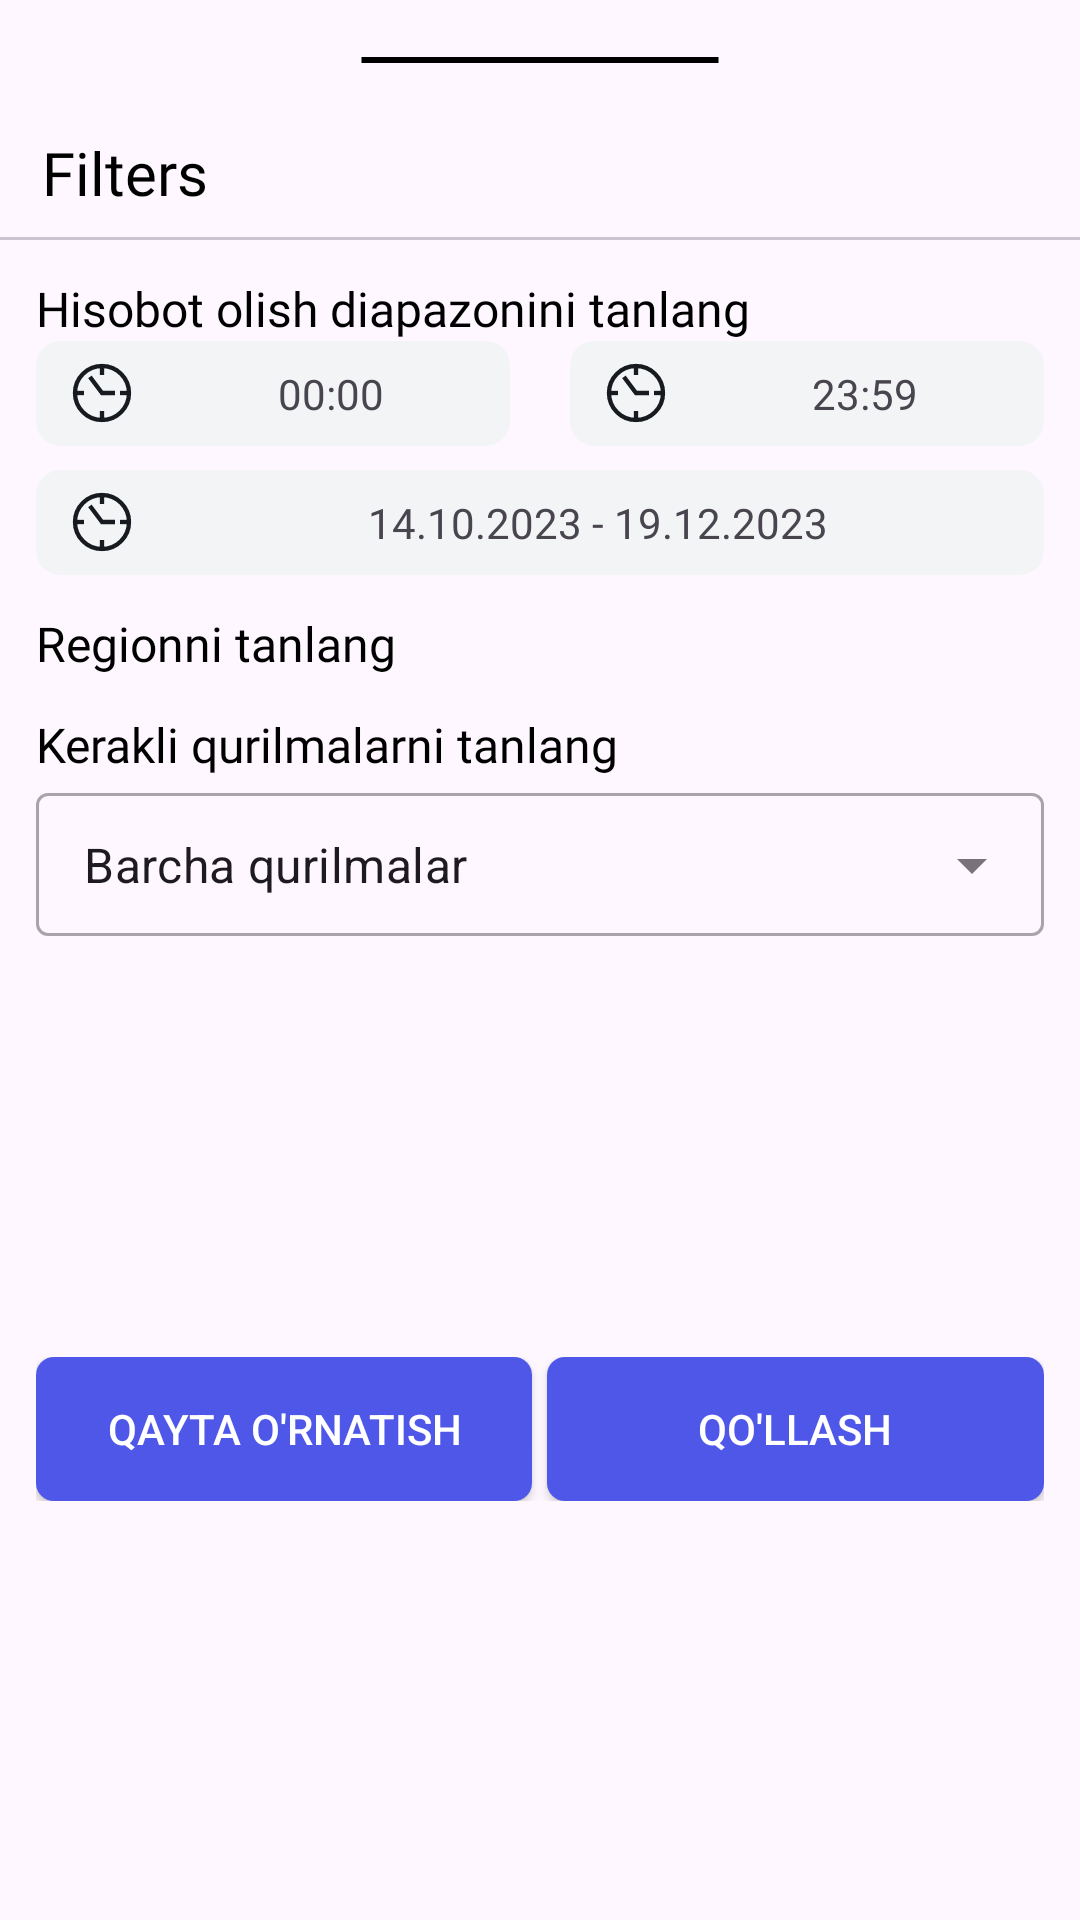

Icons on this 1080px x 1920px Android screen, each with its box as (x1=x1, y1=y1, x2=x2, y2=y2):
time: (x1=72, y1=363, x2=131, y2=422), (x1=606, y1=363, x2=665, y2=422), (x1=72, y1=492, x2=131, y2=551)
